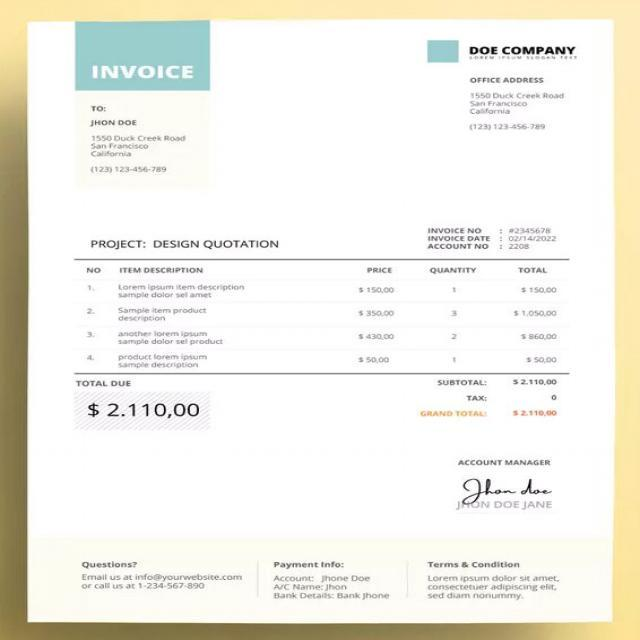customer_address: (87, 131, 191, 158)
customer_name: (88, 115, 141, 130)
invoice_date: (506, 233, 558, 243)
invoice_number: (508, 224, 552, 235)
invoice_subtotal: (507, 377, 561, 387)
invoice_total: (509, 406, 564, 419)
item_description: (111, 280, 258, 371)
item_quantity: (76, 280, 100, 365), (442, 279, 462, 367)
item_total_price: (511, 283, 562, 368)
item_unit_price: (353, 283, 401, 370)
supplier_address: (467, 89, 568, 118)
supplier_name: (464, 40, 583, 63)
tax_amount: (546, 392, 561, 402)
